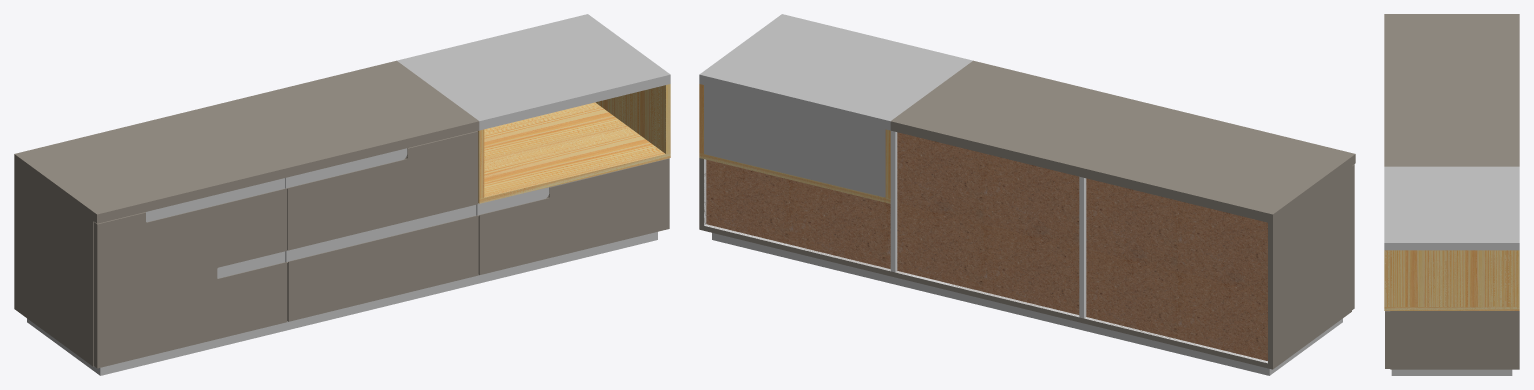
Rendered from shelf2.dae.
The picture shows the model from 3 angles, left to right: view 1: azimuth 30°, elevation 25°; view 2: azimuth 150°, elevation 25°; view 3: azimuth 270°, elevation 25°; orthographic projection. The views are drawn at different scales.
Visible parts, largest first — view 1: Group_1, Group_19, Group_2, Group_14, Group_18, Group_16, Group_10, Group_5 (×2), Group_24, Group_4, Group_15, Group_21 (+3 smaller); view 2: SketchUp (×3), Group_1, Group_2, Group_6, Group_10, Group_11 (×2), Group_23, Group_9, Group_8, Group_5; view 3: Group_1, Group_2, Group_4, Group_7, Group_22, Group_11, Group_5, Group_14.
Part boxes in pixels (box(x1,y1,x2,y2)): Group_1: box(14, 60, 479, 223); Group_19: box(94, 188, 287, 368); Group_2: box(397, 14, 670, 130); Group_14: box(478, 158, 669, 275); Group_18: box(287, 131, 478, 250); Group_16: box(287, 215, 478, 321); Group_10: box(14, 163, 93, 361); Group_5 (×2): box(478, 102, 670, 203); Group_24: box(100, 232, 657, 375); Group_4: box(595, 84, 670, 153); Group_15: box(285, 205, 476, 262); Group_21: box(145, 178, 285, 222); SketchUp (×3): box(706, 132, 1267, 360); Group_1: box(890, 60, 1355, 223); Group_2: box(699, 14, 972, 130); Group_6: box(704, 85, 885, 197); Group_10: box(1268, 166, 1351, 364); Group_11 (×2): box(699, 224, 1351, 369); Group_23: box(712, 233, 1269, 375); Group_9: box(1079, 176, 1086, 318); Group_8: box(890, 131, 897, 272); Group_5: box(699, 153, 890, 203); Group_1: box(1384, 14, 1519, 166); Group_2: box(1384, 166, 1519, 250); Group_4: box(1384, 250, 1519, 306); Group_7: box(1390, 311, 1519, 365); Group_22: box(1391, 369, 1512, 375); Group_11: box(1390, 365, 1519, 369); Group_5: box(1384, 307, 1519, 310); Group_14: box(1385, 311, 1390, 368).
Size of the model in its own units: 70.87 by 17.72 by 19.69.
